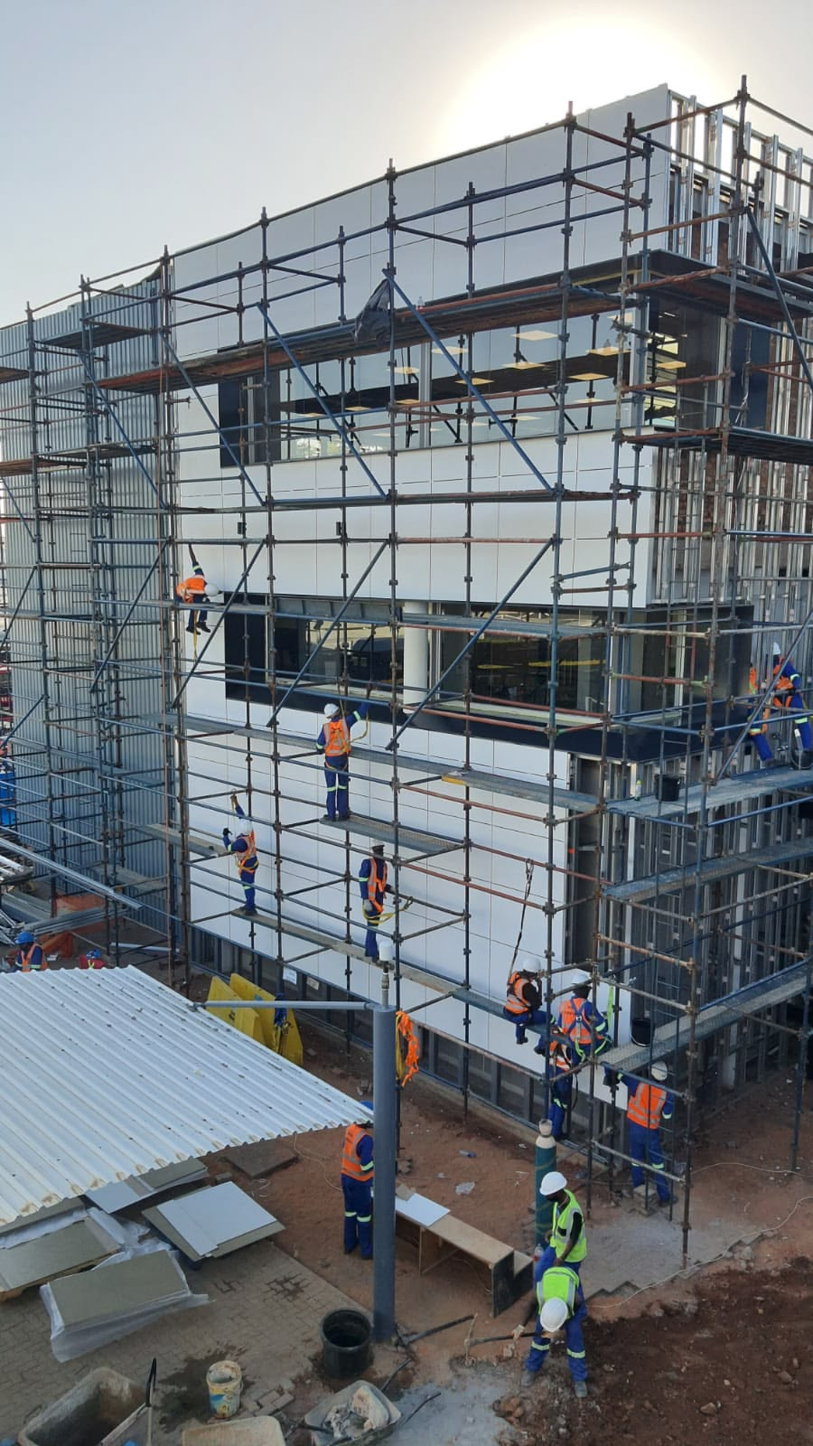person: (320, 1106, 429, 1278), (502, 1255, 611, 1416), (492, 1154, 603, 1259), (297, 695, 374, 825), (626, 1032, 684, 1198), (726, 611, 785, 758), (171, 525, 240, 642), (347, 842, 402, 959), (552, 967, 609, 1074), (194, 819, 259, 907), (487, 955, 536, 1055)
